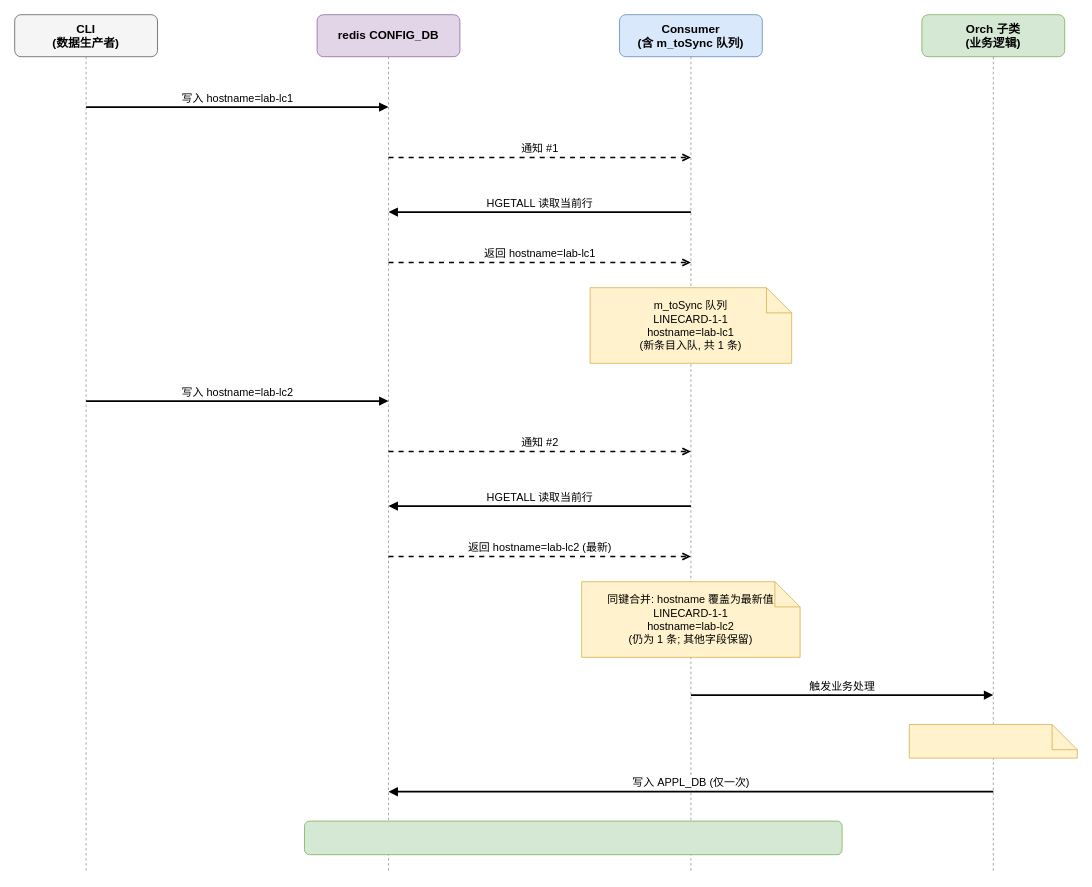
The diagram is 1092 pixels wide and 887 high, and some of its shapes have lost their labels. The centre of each missing label's shape, as x and y in pixels:
"只处理一次 看到: hostname=lab-lc2" belongs at [992,741].
"效果: 两次写入 → 合并为 1 条队列条目 → 仅一次处理, 且取最新值" belongs at [573,837].
